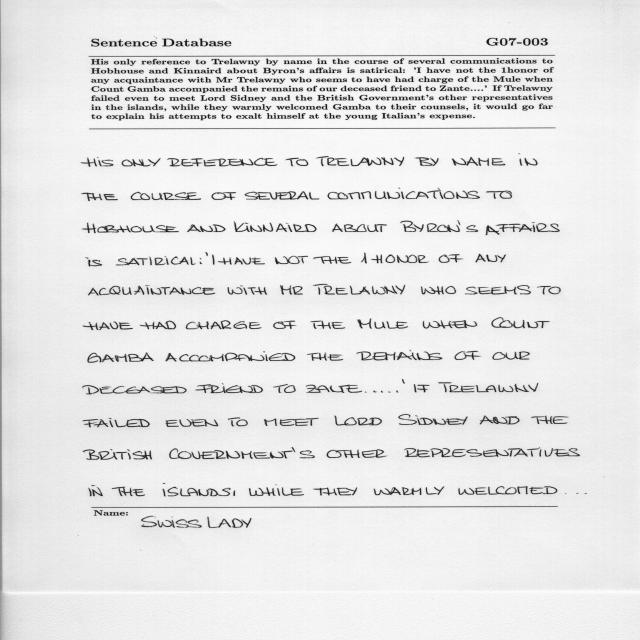word: (404, 448, 580, 458), (169, 447, 315, 459), (328, 188, 480, 199), (166, 351, 296, 362), (88, 285, 215, 295), (313, 284, 405, 295), (438, 382, 538, 392), (82, 223, 179, 233), (486, 222, 560, 235), (357, 350, 443, 361), (82, 385, 187, 394), (234, 221, 316, 232), (162, 484, 231, 497), (168, 158, 278, 166), (317, 156, 405, 166), (400, 221, 478, 232), (458, 486, 543, 495), (399, 414, 468, 425), (83, 449, 152, 460), (361, 253, 429, 264), (116, 256, 196, 265), (195, 383, 263, 393), (245, 191, 320, 200), (186, 320, 261, 329), (88, 353, 154, 363), (249, 484, 304, 496), (492, 318, 550, 329), (374, 487, 444, 496), (83, 418, 150, 427), (465, 285, 531, 294), (357, 318, 408, 329), (131, 192, 201, 200), (327, 449, 387, 458), (423, 320, 477, 329), (334, 416, 382, 426), (452, 157, 505, 166), (306, 385, 362, 393), (332, 224, 387, 232), (264, 418, 319, 426), (165, 419, 218, 427), (83, 322, 133, 330), (218, 257, 265, 265), (480, 416, 520, 425), (313, 488, 357, 496), (228, 286, 267, 295), (492, 351, 530, 360), (81, 157, 114, 167), (122, 158, 161, 166), (187, 224, 226, 232), (314, 256, 352, 264), (531, 416, 569, 424), (112, 487, 145, 496), (82, 193, 118, 201), (140, 321, 176, 329), (307, 353, 343, 361), (421, 286, 456, 294), (310, 321, 345, 329), (476, 254, 506, 263), (275, 256, 308, 264), (519, 153, 538, 166), (455, 351, 481, 360), (280, 285, 303, 295), (415, 157, 439, 166), (439, 254, 463, 263), (486, 191, 512, 199), (273, 384, 296, 393), (211, 192, 236, 200), (537, 286, 561, 294), (286, 158, 309, 166), (274, 321, 297, 329), (543, 486, 566, 494), (228, 418, 248, 427), (89, 485, 103, 496), (86, 257, 102, 266), (414, 384, 429, 392), (365, 390, 383, 393), (212, 255, 214, 265), (199, 258, 202, 264), (402, 379, 405, 384), (205, 252, 208, 256), (234, 490, 236, 496), (396, 391, 398, 393), (389, 392, 391, 393)
